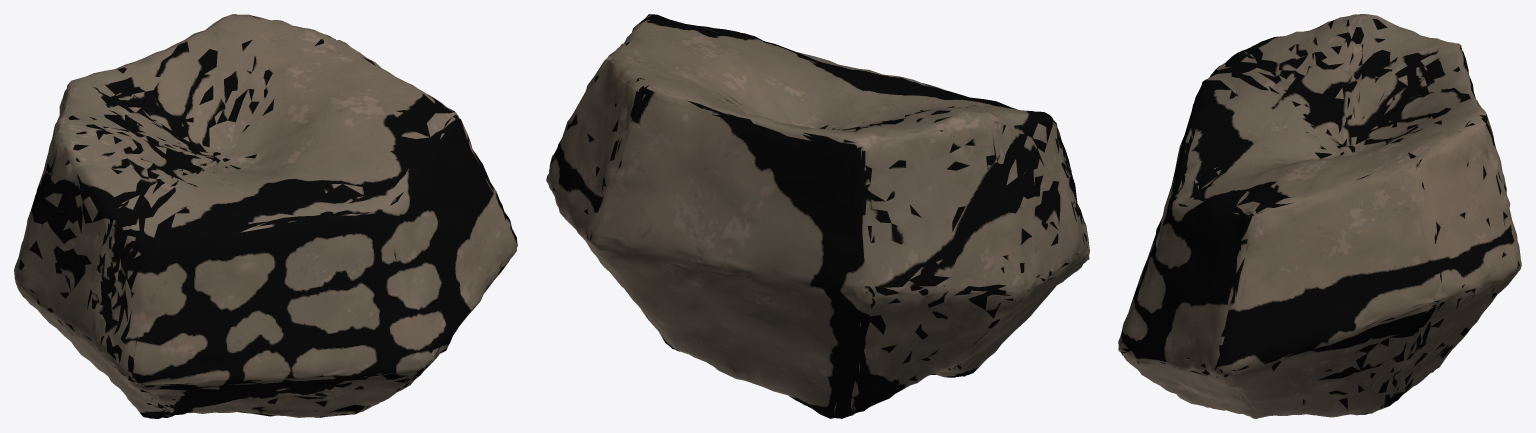
The model's file is Coal.fbx.
The picture shows the model from 3 angles, left to right: view 1: azimuth 30°, elevation 25°; view 2: azimuth 150°, elevation 25°; view 3: azimuth 270°, elevation 25°; orthographic projection. The views are drawn at different scales.
Parts seen in each view (by area): view 1: SDT_PhotoRock_A_Rock; view 2: SDT_PhotoRock_A_Rock; view 3: SDT_PhotoRock_A_Rock.
Boxes of the visible parts, left/top/right/bottom form: SDT_PhotoRock_A_Rock: left=14, top=14, right=517, bottom=418; SDT_PhotoRock_A_Rock: left=546, top=14, right=1089, bottom=418; SDT_PhotoRock_A_Rock: left=1118, top=14, right=1521, bottom=418.
Bounding box in the file's own units: 0.7 × 0.45 × 0.55.
